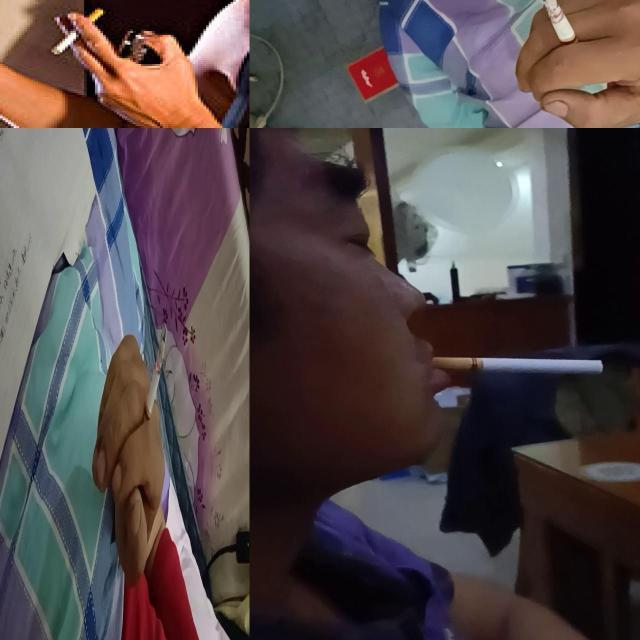smoking: (44, 4, 108, 61), (140, 320, 168, 448), (430, 356, 606, 375), (542, 0, 585, 62)
